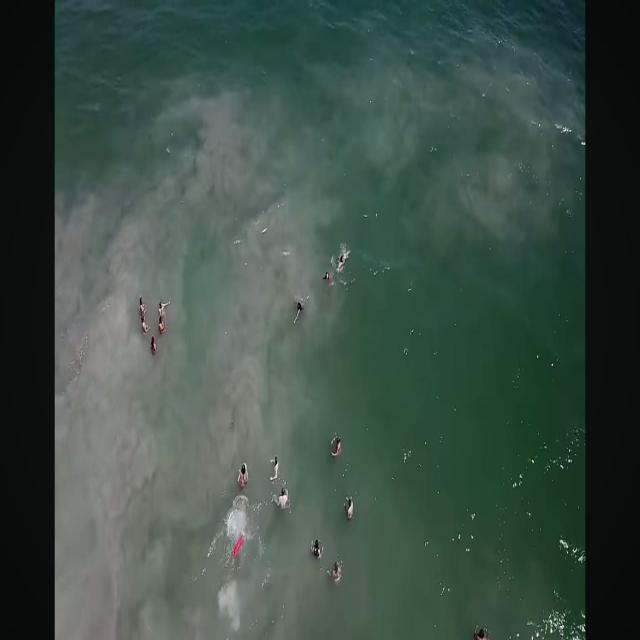humans: (291, 290, 305, 336), (308, 529, 323, 569), (234, 461, 250, 496), (336, 245, 350, 281), (328, 556, 342, 591), (276, 481, 289, 518), (474, 614, 492, 640), (320, 258, 332, 294), (330, 430, 342, 465), (342, 490, 354, 525), (269, 449, 279, 484), (146, 332, 158, 356), (157, 298, 170, 320), (139, 316, 151, 338), (136, 293, 146, 315), (157, 314, 165, 338)
